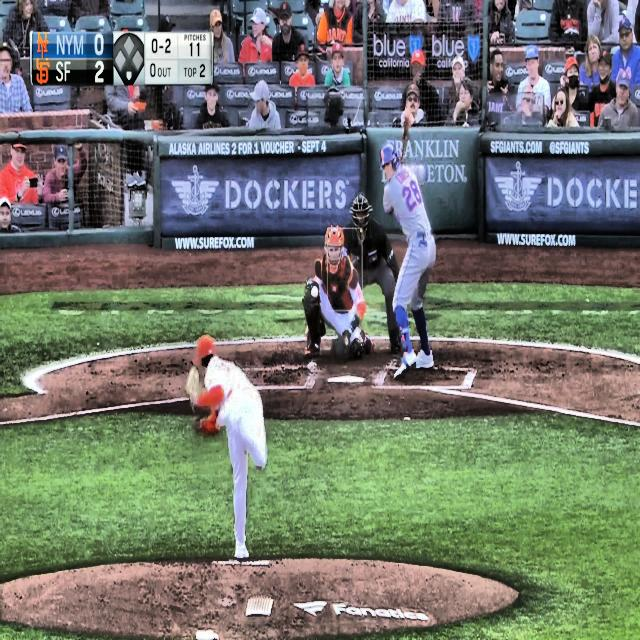baseball: (311, 284, 319, 300)
